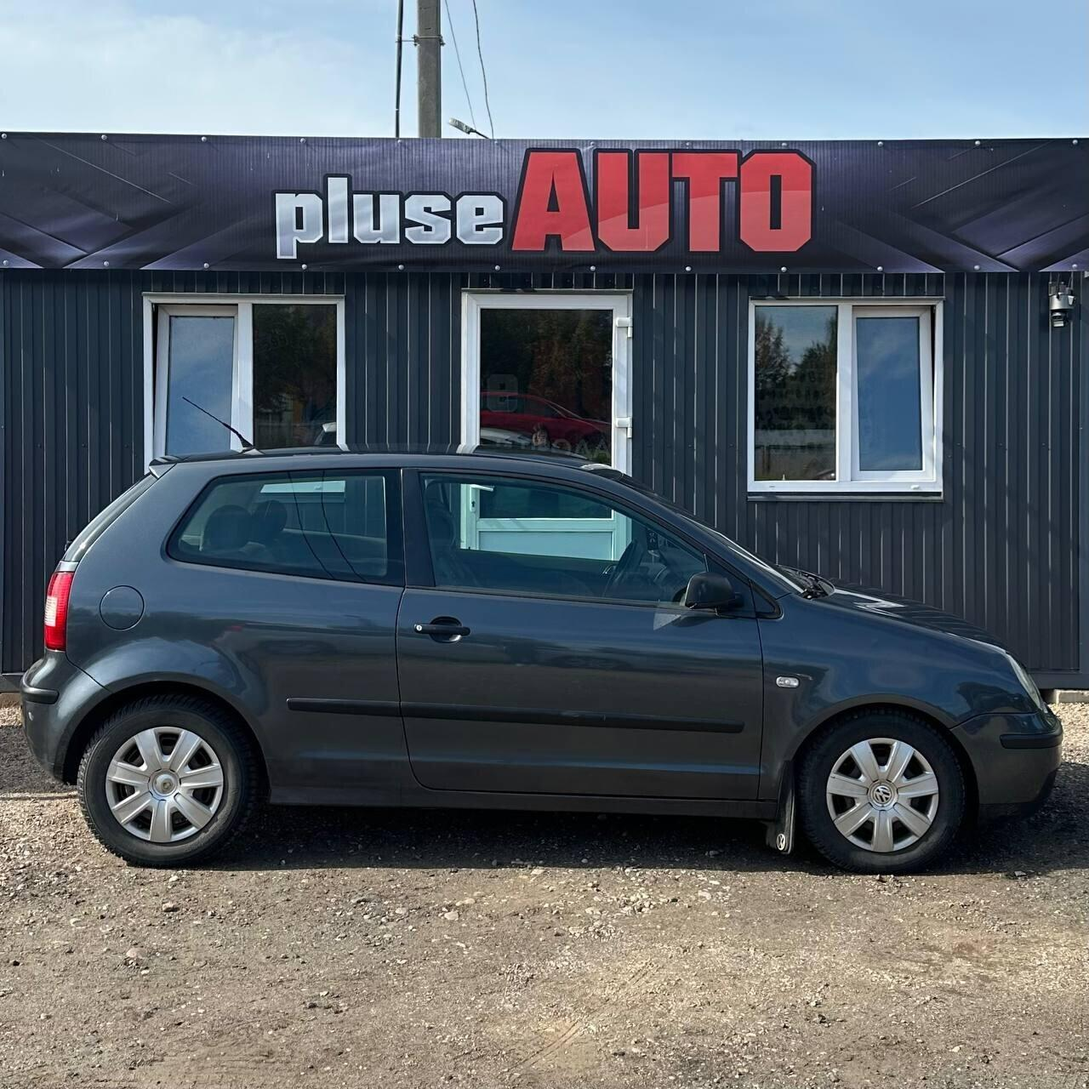Polo_2001-2005: (26, 439, 1067, 902)
